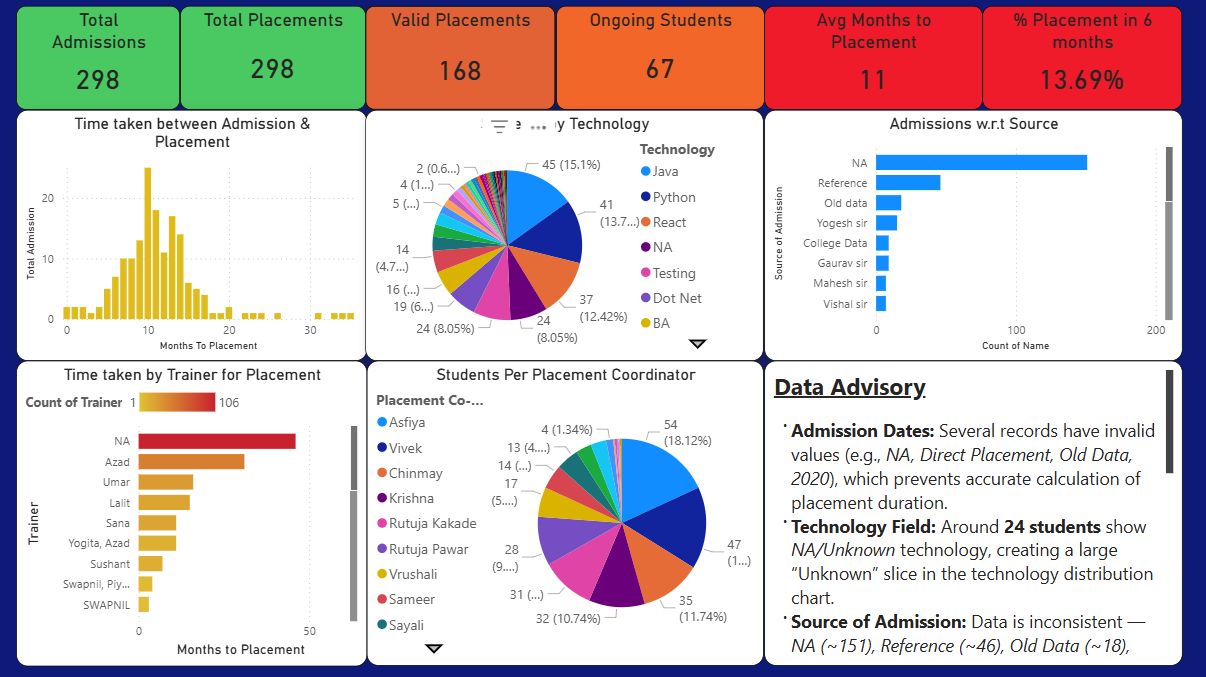

The page's visual inventory and layout, read from the dashboard file:
{"tool":"powerbi","page":{"name":"Page 1","canvas":[1280,720],"ordinal":0},"visuals":[{"type":"card","title":"Total Admissions","fields":{"Values":["Sheet1.TotalAdmissions"]},"box":[25.6,13.5,172.9,109.8],"z":0},{"type":"card","title":"Total Placements","fields":{"Values":["Sheet1.TotalPlacements"]},"box":[198.5,13.5,195.5,109.8],"z":1000},{"type":"card","title":"Ongoing Students","fields":{"Values":["Sheet1.OngoingStudents"]},"box":[593.9,13.5,219.5,109.8],"z":2000},{"type":"card","title":"Avg Months to Placement","fields":{"Values":["Sheet1.AvgMonthsToPlacement"]},"box":[813.5,13.5,230.1,109.8],"z":3000},{"type":"card","title":"% Placement in 6 months","fields":{"Values":["Sheet1.PercentWithin6Months"]},"box":[1043.5,13.5,210.5,109.8],"z":4000},{"type":"columnChart","title":"Time taken between Admission & Placement","fields":{"Category":["Sheet1.MonthsToPlacement"],"Y":["Sheet1.TotalAdmissions"]},"box":[25.6,123.3,369.9,264.6],"z":5000},{"type":"pieChart","title":"Students by Technology","fields":{"Category":["Sheet1.Technology"],"Y":["Sheet1.Name"]},"box":[394,123.3,419.5,264.6],"z":7000},{"type":"barChart","title":"Admissions w.r.t Source","fields":{"Y":["Sheet1.Name"],"Category":["Sheet1.Source of Admission"]},"box":[813.5,123.3,440.6,264.6],"z":8000},{"type":"clusteredBarChart","title":"Time taken by Trainer for Placement","fields":{"Category":["Sheet1.Trainer"],"Y":["Sheet1.MonthsToPlacement"]},"box":[25.6,387.9,369.9,321.8],"z":9000},{"type":"pieChart","title":"Students Per Placement Coordinator","fields":{"Y":["Sheet1.StudentsPerCoordinator"],"Category":["Sheet1.Placement Co-ordinator"]},"box":[395.5,387.9,418.2,321.2],"z":10000},{"type":"textbox","box":[813.6,387.9,440.9,321.2],"z":11000},{"type":"card","title":"Valid Placements","fields":{"Values":["Sheet1.Validated Placements"]},"box":[394,13.5,200,109.8],"z":12000}]}

Visuals, with their boxes in screenshot pixels (x1, y1, x2, y2), scaled from the page's 1280x720 canvas onto the 1206x677 screenshot:
"Total Admissions" card: x1=24, y1=13, x2=187, y2=116
"Total Placements" card: x1=187, y1=13, x2=371, y2=116
"Ongoing Students" card: x1=560, y1=13, x2=766, y2=116
"Avg Months to Placement" card: x1=766, y1=13, x2=983, y2=116
"% Placement in 6 months" card: x1=983, y1=13, x2=1182, y2=116
"Time taken between Admission & Placement" columnChart: x1=24, y1=116, x2=373, y2=365
"Students by Technology" pieChart: x1=371, y1=116, x2=766, y2=365
"Admissions w.r.t Source" barChart: x1=766, y1=116, x2=1182, y2=365
"Time taken by Trainer for Placement" clusteredBarChart: x1=24, y1=365, x2=373, y2=667
"Students Per Placement Coordinator" pieChart: x1=373, y1=365, x2=767, y2=667
textbox: x1=767, y1=365, x2=1182, y2=667
"Valid Placements" card: x1=371, y1=13, x2=560, y2=116
